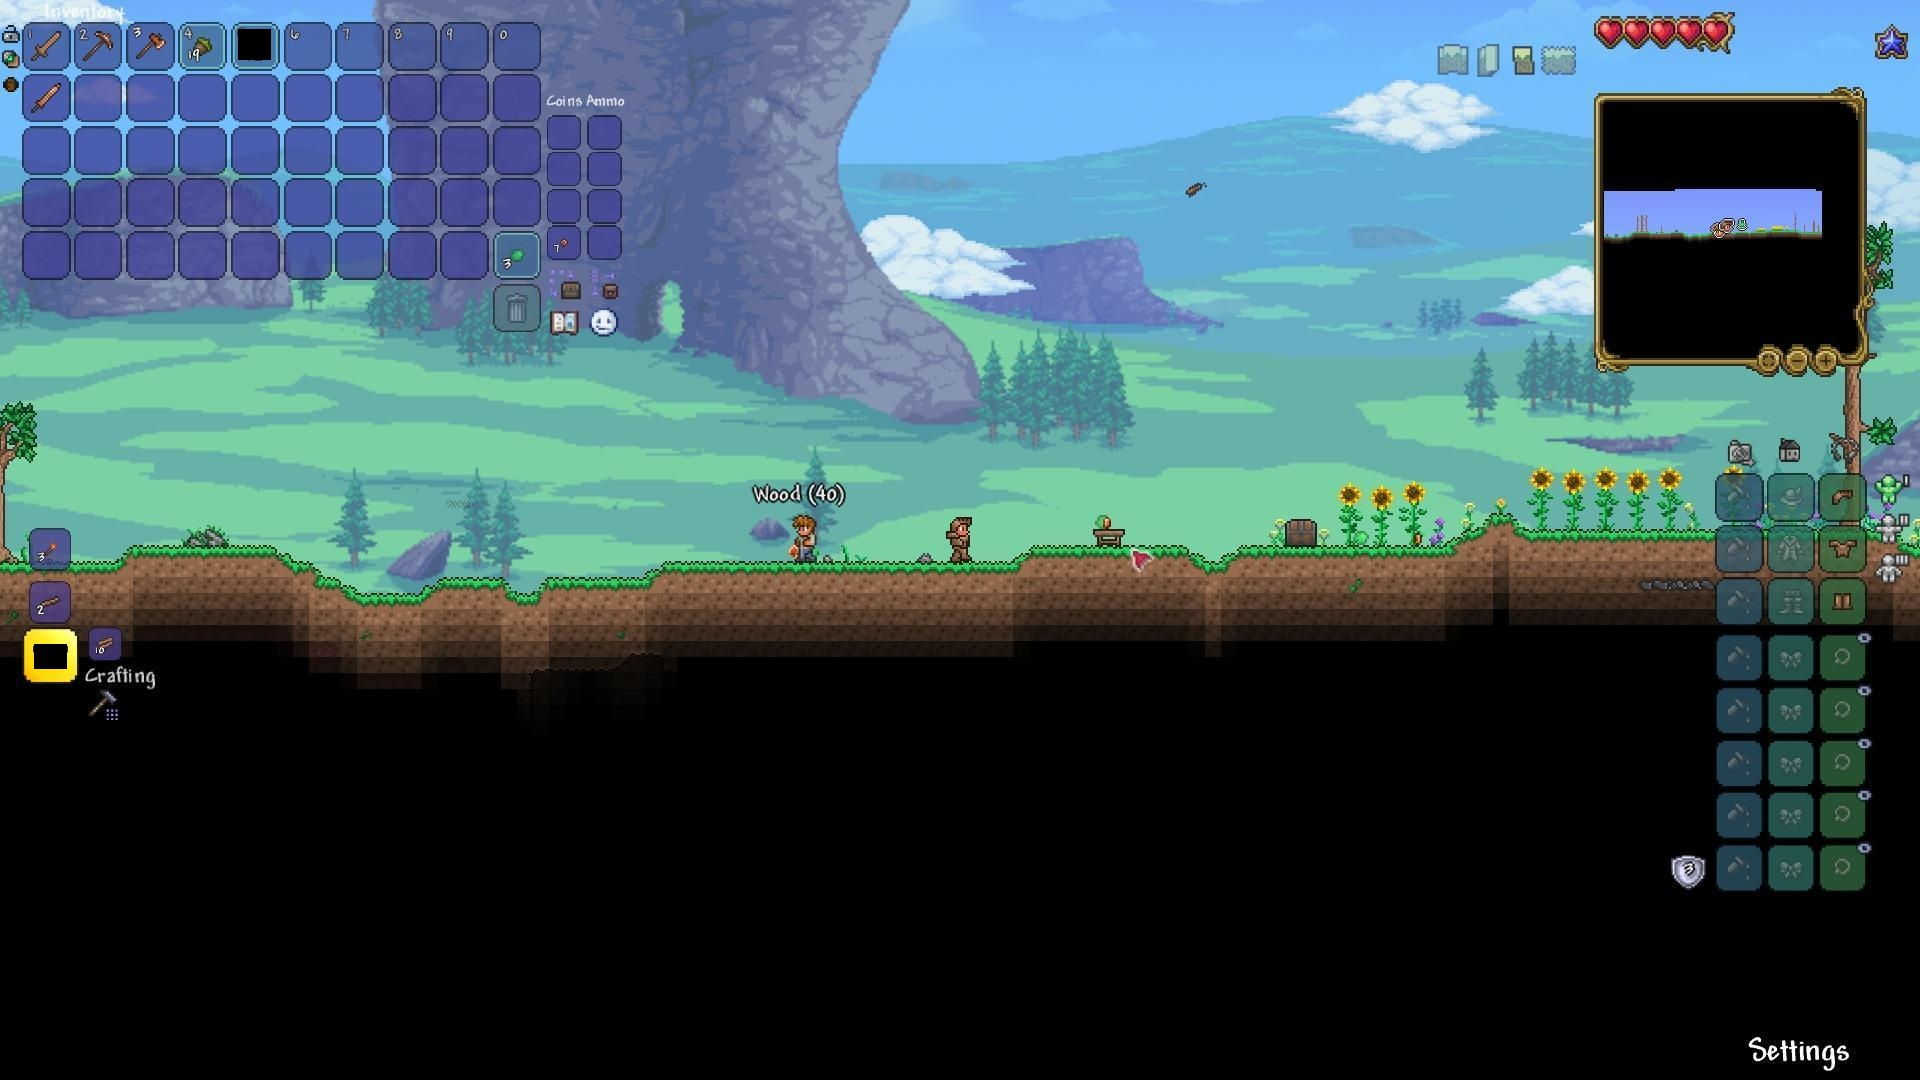breastplate: (1830, 539, 1859, 559)
helmet: (1828, 484, 1857, 509)
legs: (1830, 589, 1855, 615)
wood: (92, 630, 120, 655)
workbench: (1089, 524, 1126, 549)
